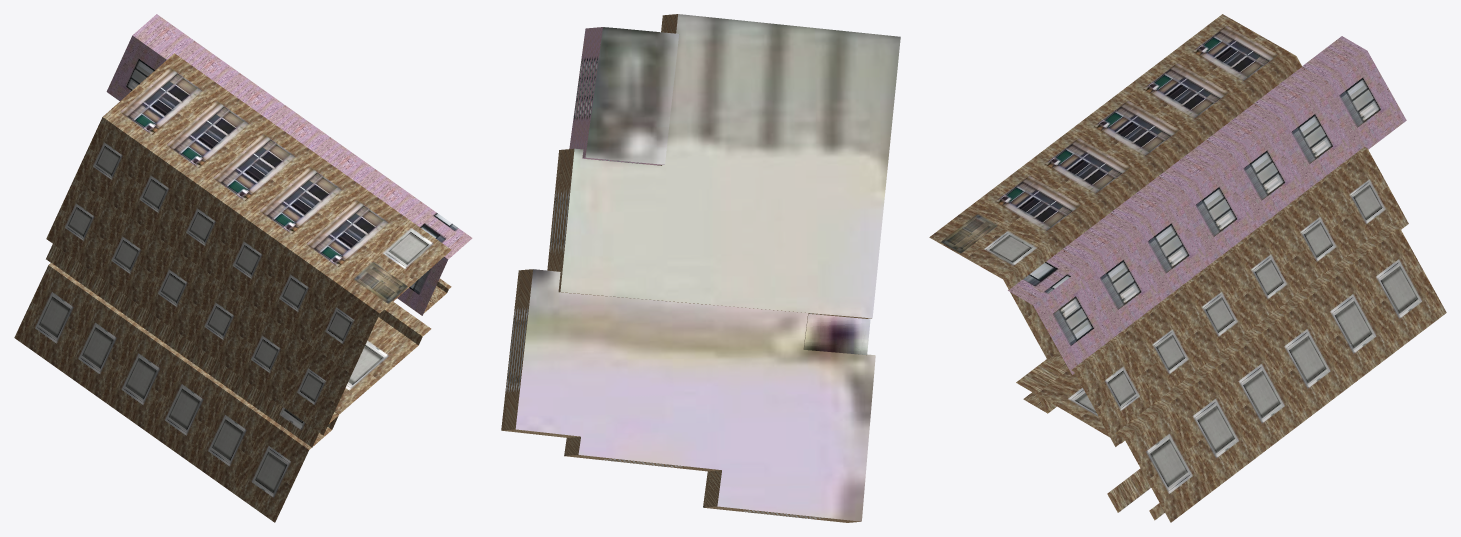
3 renders of one model, left to right at view 1: azimuth 30°, elevation 25°; view 2: azimuth 150°, elevation 25°; view 3: azimuth 270°, elevation 25°, orthographic. The views are drawn at different scales.
Bounding box in the file's own units: 21.6 × 26.48 × 27.94.
Materials: 16 (16 with a texture image).
